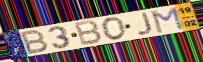3: (47, 25, 73, 49)
B: (73, 19, 103, 47), (20, 28, 50, 55)
J: (136, 11, 155, 36)
M: (151, 6, 186, 34)
O: (101, 16, 128, 41)
